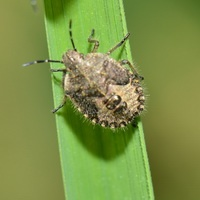insect: (23, 19, 144, 127)
